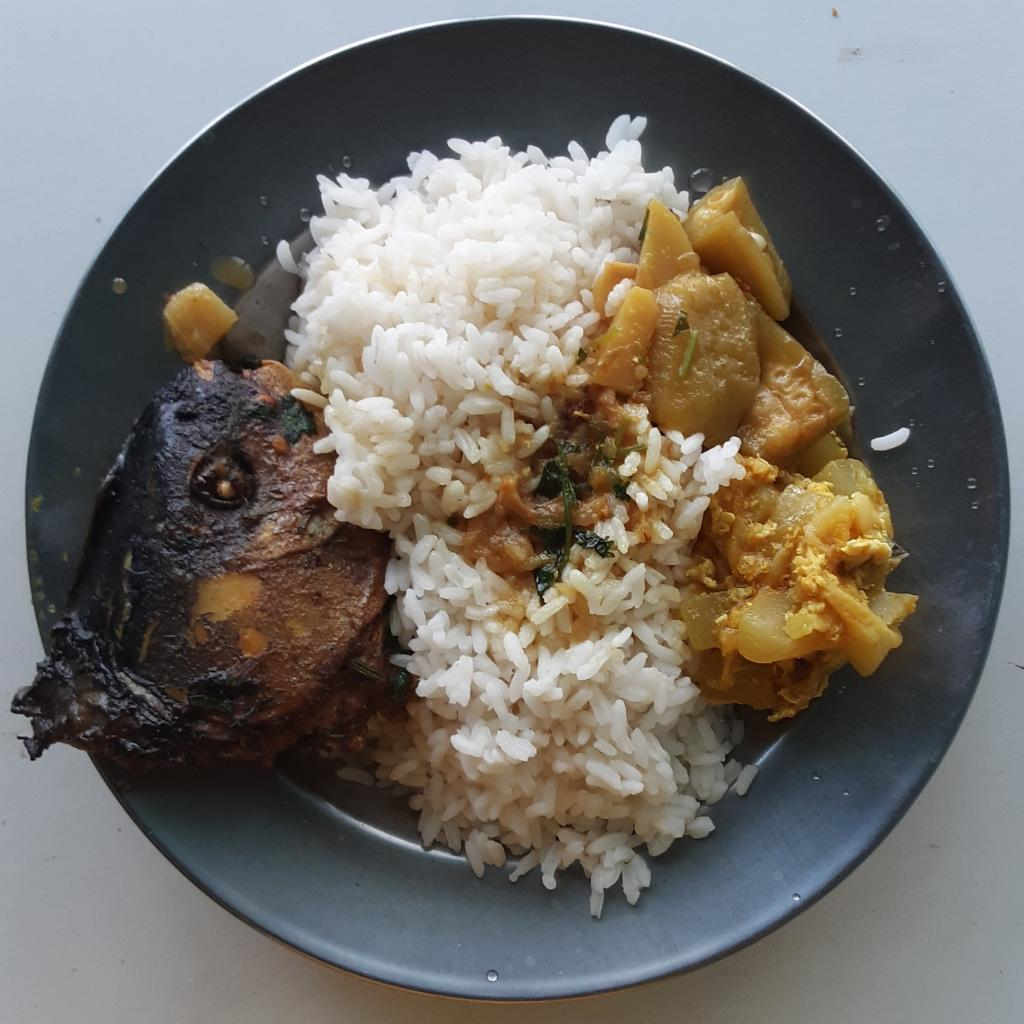fish: (4, 356, 412, 765)
papaya: (676, 444, 920, 725)
potol: (588, 178, 851, 465)
rice: (279, 119, 761, 918)
